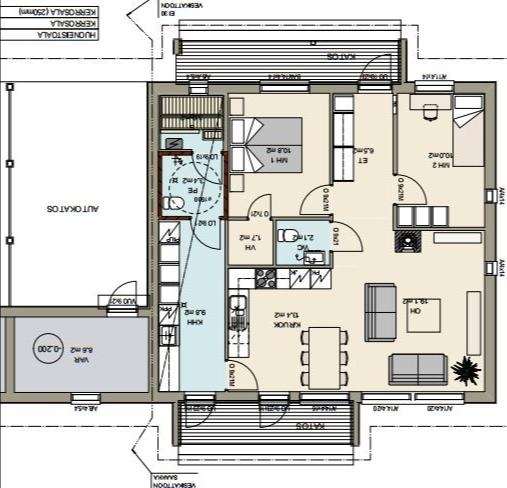door: (223, 359, 262, 396), (298, 180, 335, 219), (390, 170, 428, 206), (356, 52, 394, 88), (188, 214, 222, 253), (258, 391, 290, 432), (105, 282, 141, 318), (328, 220, 366, 254), (191, 150, 222, 190), (184, 395, 216, 429), (245, 192, 274, 222)
window: (409, 73, 456, 95), (411, 390, 470, 406), (255, 80, 314, 95), (359, 390, 413, 406), (294, 391, 350, 406), (66, 390, 104, 406), (185, 79, 211, 97), (480, 186, 500, 206), (480, 260, 502, 278)
